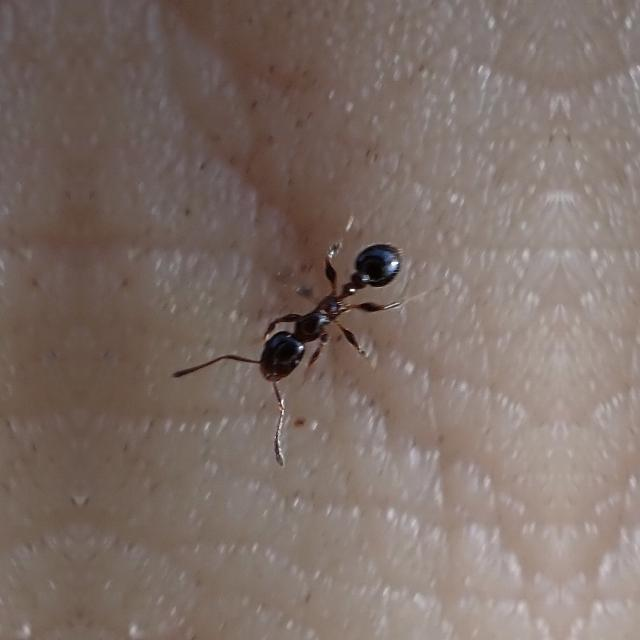Temnothorax: (209, 204, 427, 433)
